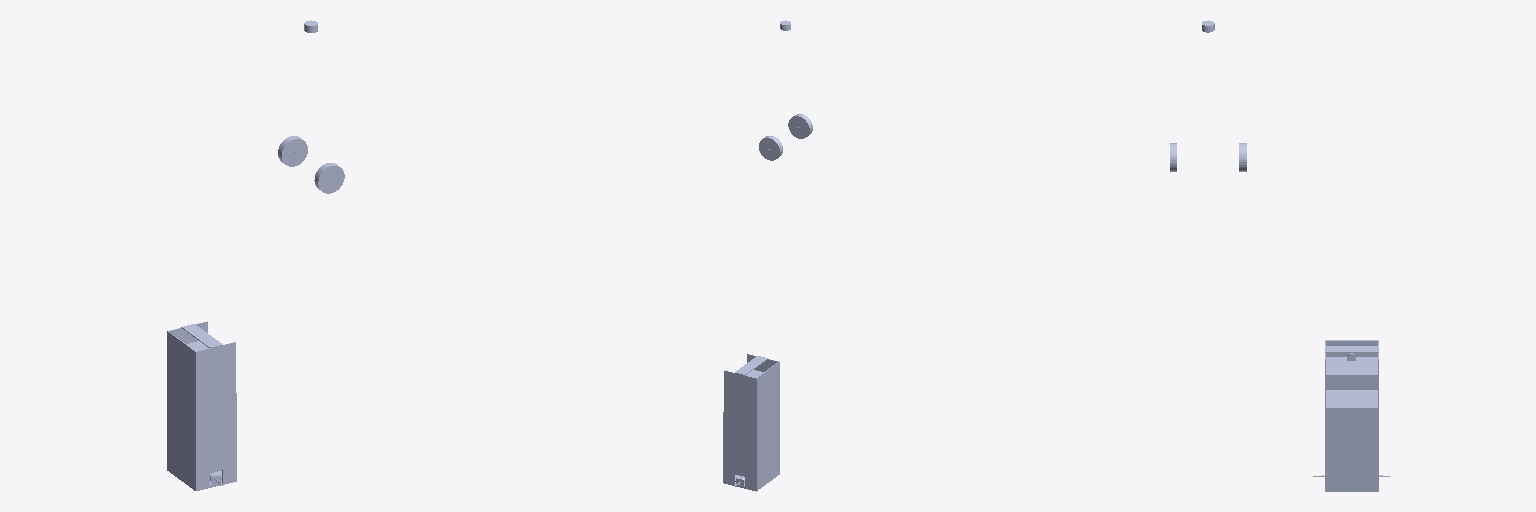
robot.urdf — hardware:
<?xml version="1.0" encoding="utf-8"?>
<!-- This URDF was automatically created by SolidWorks to URDF Exporter! Originally created by [author] ([email redacted]) 
     Commit Version: 1.6.0-4-g7f85cfe  Build Version: 1.6.7995.38578
     For more information, please see http://wiki.ros.org/sw_urdf_exporter -->
<robot
  name="hardware">
  <link
    name="base_link">
    <inertial>
      <origin
        xyz="0.213101152723723 2.38846234318636 0.797300514608274"
        rpy="0 0 0" />
      <mass
        value="6.28339377848197" />
      <inertia
        ixx="0.202791769289639"
        ixy="2.25777225403882E-08"
        ixz="-6.21302360981662E-10"
        iyy="0.0461014447332229"
        iyz="6.77357743328597E-18"
        izz="0.19227279401554" />
    </inertial>
    <visual>
      <origin
        xyz="0 0 0"
        rpy="0 0 0" />
      <geometry>
        <mesh
          filename="package://slam/meshes/base_link.STL" />
      </geometry>
      <material
        name="">
        <color
          rgba="0.792156862745098 0.819607843137255 0.933333333333333 1" />
      </material>
    </visual>
    <collision>
      <origin
        xyz="0 0 0"
        rpy="0 0 0" />
      <geometry>
        <mesh
          filename="package://slam/meshes/base_link.STL" />
      </geometry>
    </collision>
  </link>
  <link
    name="left_Link">
    <inertial>
      <origin
        xyz="1.77635683940025E-15 0.0205000000000003 1.11022302462516E-16"
        rpy="0 0 0" />
      <mass
        value="0.822293027521207" />
      <inertia
        ixx="0.00143414756441595"
        ixy="3.84409869682573E-19"
        ixz="1.0842021724855E-19"
        iyy="0.00263791603228804"
        iyz="-3.03196945361245E-19"
        izz="0.00143414756441595" />
    </inertial>
    <visual>
      <origin
        xyz="0 0 0"
        rpy="0 0 0" />
      <geometry>
        <mesh
          filename="package://slam/meshes/left_Link.STL" />
      </geometry>
      <material
        name="">
        <color
          rgba="0.792156862745098 0.819607843137255 0.933333333333333 1" />
      </material>
    </visual>
    <collision>
      <origin
        xyz="0 0 0"
        rpy="0 0 0" />
      <geometry>
        <mesh
          filename="package://slam/meshes/left_Link.STL" />
      </geometry>
    </collision>
  </link>
  <joint
    name="left_wheel"
    type="continuous">
    <origin
      xyz="0.20231 -0.96934 2.0813"
      rpy="3.1416 -1.1415 0" />
    <parent
      link="base_link" />
    <child
      link="left_Link" />
    <axis
      xyz="0 1 0" />
    <limit
      effort="1"
      velocity="10" />
  </joint>
  <link
    name="right_Link">
    <inertial>
      <origin
        xyz="-8.88178419700125E-15 -0.0205000000000001 -3.71924713249427E-15"
        rpy="0 0 0" />
      <mass
        value="0.822293027521207" />
      <inertia
        ixx="0.00143414756441595"
        ixy="2.10629578231261E-22"
        ixz="-1.35525271560688E-20"
        iyy="0.00263791603228803"
        iyz="1.83392419905648E-20"
        izz="0.00143414756441595" />
    </inertial>
    <visual>
      <origin
        xyz="0 0 0"
        rpy="0 0 0" />
      <geometry>
        <mesh
          filename="package://slam/meshes/right_Link.STL" />
      </geometry>
      <material
        name="">
        <color
          rgba="0.792156862745098 0.819607843137255 0.933333333333333 1" />
      </material>
    </visual>
    <collision>
      <origin
        xyz="0 0 0"
        rpy="0 0 0" />
      <geometry>
        <mesh
          filename="package://slam/meshes/right_Link.STL" />
      </geometry>
    </collision>
  </link>
  <joint
    name="right_wheel"
    type="continuous">
    <origin
      xyz="0.20231 -0.58434 2.0813"
      rpy="-3.1416 -1.4969 3.1416" />
    <parent
      link="base_link" />
    <child
      link="right_Link" />
    <axis
      xyz="0 1 0" />
    <limit
      effort="1"
      velocity="10" />
  </joint>
  <link
    name="lidar_Link">
    <inertial>
      <origin
        xyz="0 0 -0.0205000000000002"
        rpy="0 0 0" />
      <mass
        value="0.166931667241147" />
      <inertia
        ixx="7.74702045721622E-05"
        ixy="-2.0150684343852E-36"
        ixz="-5.43948289683133E-21"
        iyy="7.74702045721621E-05"
        iyz="8.74214482911838E-20"
        izz="0.000108171720372263" />
    </inertial>
    <visual>
      <origin
        xyz="0 0 0"
        rpy="0 0 0" />
      <geometry>
        <mesh
          filename="package://slam/meshes/lidar_Link.STL" />
      </geometry>
      <material
        name="">
        <color
          rgba="0.792156862745098 0.819607843137255 0.933333333333333 1" />
      </material>
    </visual>
    <collision>
      <origin
        xyz="0 0 0"
        rpy="0 0 0" />
      <geometry>
        <mesh
          filename="package://slam/meshes/lidar_Link.STL" />
      </geometry>
    </collision>
  </link>
  <joint
    name="lidarjoint"
    type="continuous">
    <origin
      xyz="0.20231 -0.79734 2.8613"
      rpy="3.1416 0 0" />
    <parent
      link="base_link" />
    <child
      link="lidar_Link" />
    <axis
      xyz="0 0 1" />
  </joint>
</robot>

--- Render facts (derived) ---
Views: 3 orthographic renders of the robot side by side, from view 1: azimuth 30°, elevation 25°; view 2: azimuth 150°, elevation 25°; view 3: azimuth 270°, elevation 25°.
Robot: hardware — 4 links, 3 joints (3 continuous); root link base_link; default pose: all joints at 0.
Links seen in each view (by area): view 1: base_link, left_Link, right_Link; view 2: base_link; view 3: base_link.
Link boxes in pixels (x1,y1,x2,y2): base_link: [167, 321, 236, 490]; left_Link: [314, 163, 344, 193]; right_Link: [278, 136, 307, 166]; base_link: [723, 354, 779, 491]; base_link: [1313, 340, 1389, 491].
Size in the robot's own frame: 0.4071 by 1.22 by 2.9 metres.
4 mesh visuals loaded from 4 distinct referenced files (4 binary STL).